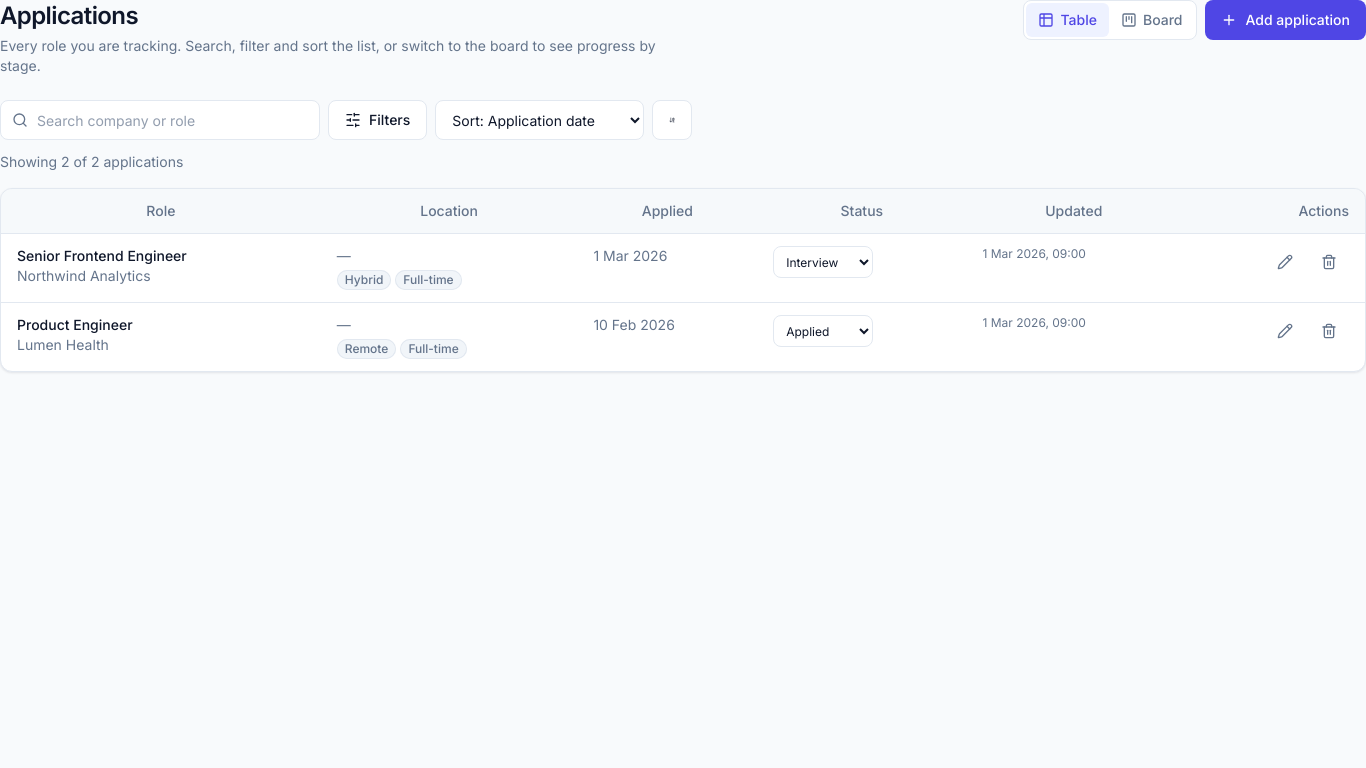
Test case: ApplicationsPage — status changes and deletion › asks for confirmation before deleting, and can be cancelled
Click the button named "delete product engineer" at (1329, 331), box [1309, 315, 1349, 347]
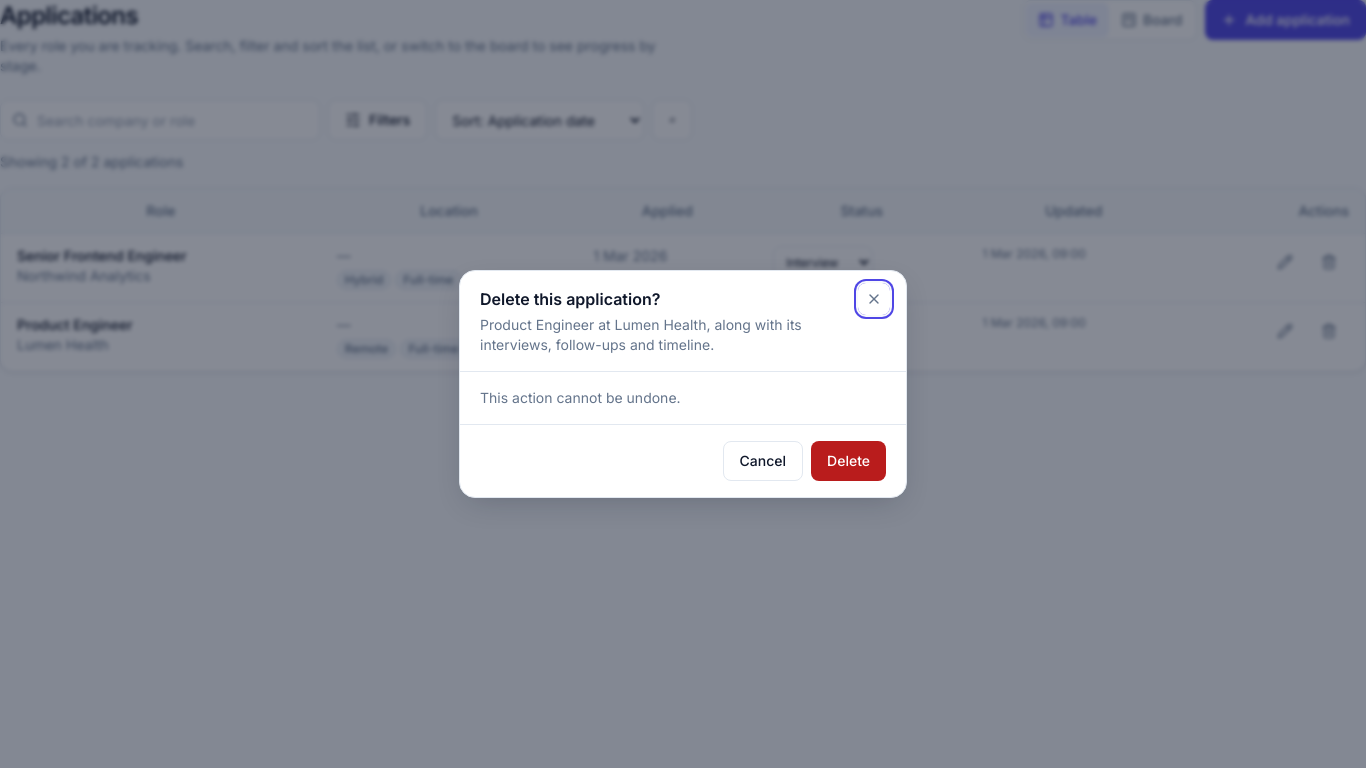
Now the heading "Delete this application?" is shown, box [480, 289, 660, 309]
Click the button "Cancel" at (763, 461), box [723, 441, 803, 481]
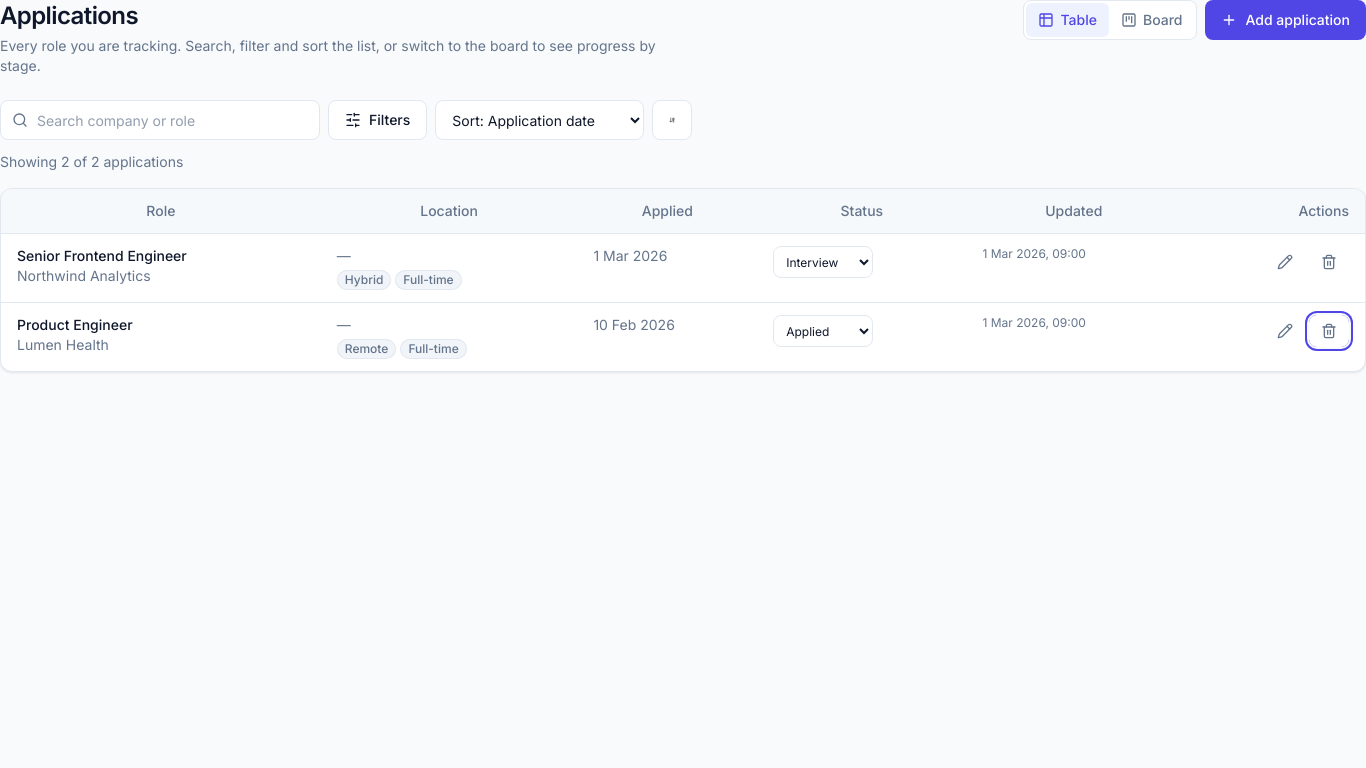
Expected: the text "Showing 2 of 2 applications" is shown, [0, 153, 183, 170]
Now the dialog is gone
Click the button named "delete product engineer" at (1329, 331), box [1309, 315, 1349, 347]
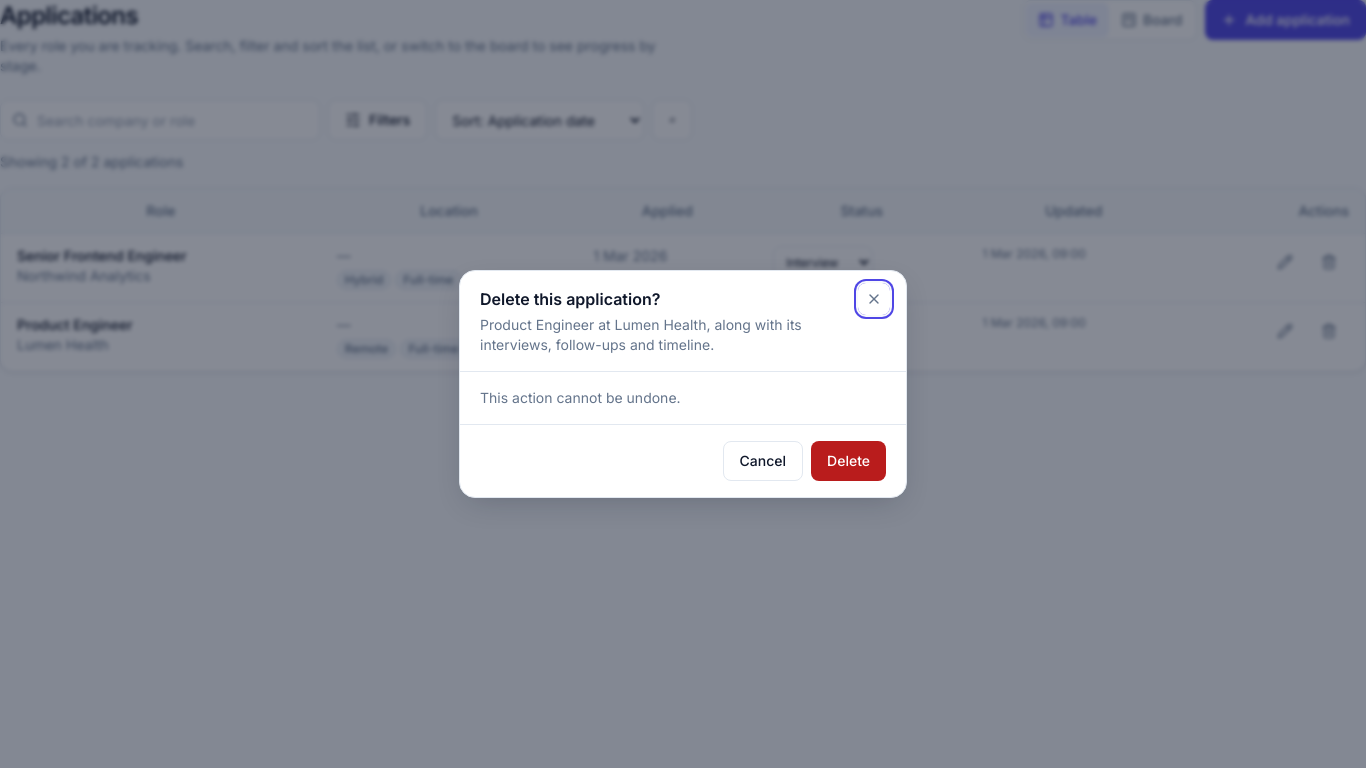
Click the button "Delete" at (849, 461), box [811, 441, 886, 481]
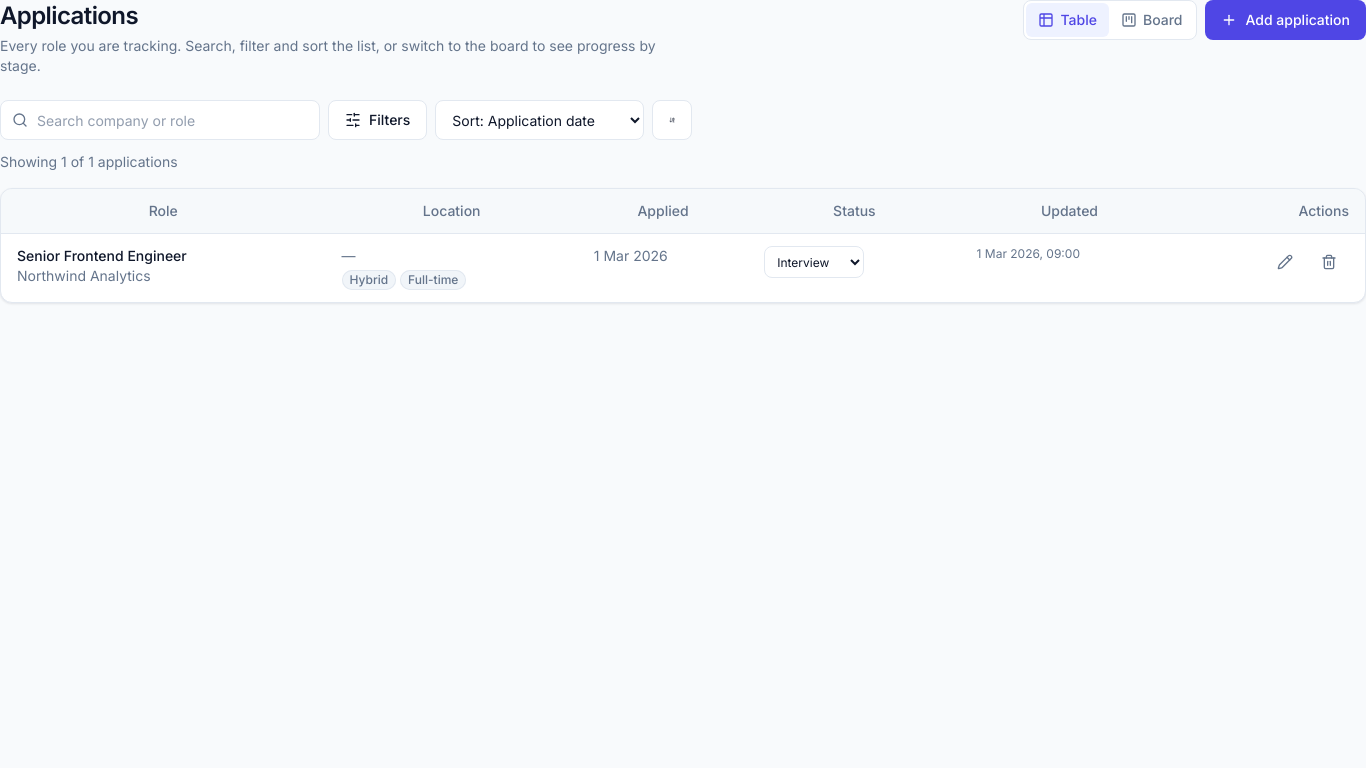
Now the text "Showing 1 of 1 applications" is shown, box [0, 153, 178, 170]
